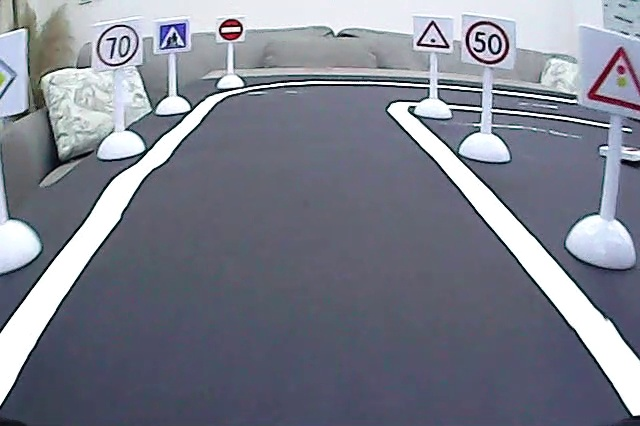do not enter: (217, 17, 245, 43)
green light: (414, 19, 452, 51)
red light: (579, 38, 640, 114)
school crossing: (158, 22, 189, 52)
speed limit 50: (464, 18, 511, 68)
speed limit 70: (95, 22, 141, 68)
